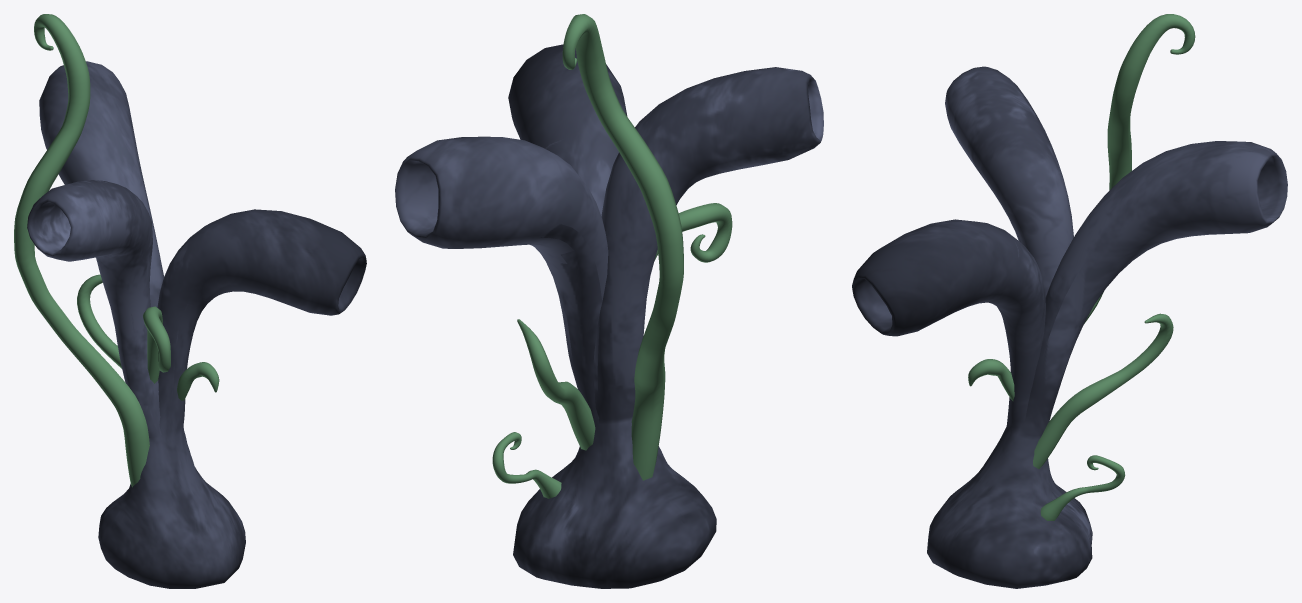
Rendered from BellDead.fbx.
3 renders of one model, left to right at view 1: azimuth 30°, elevation 25°; view 2: azimuth 150°, elevation 25°; view 3: azimuth 270°, elevation 25°, orthographic. The views are drawn at different scales.
Visible parts, largest first — view 1: Bell; view 2: Bell; view 3: Bell.
Boxes of the visible parts, x1,y1,x2,y2 form: Bell: (14,14,366,588); Bell: (395,14,823,588); Bell: (852,14,1287,588).
Size of the model in its own units: 211 by 356 by 267.
1 material, 1 textured.
